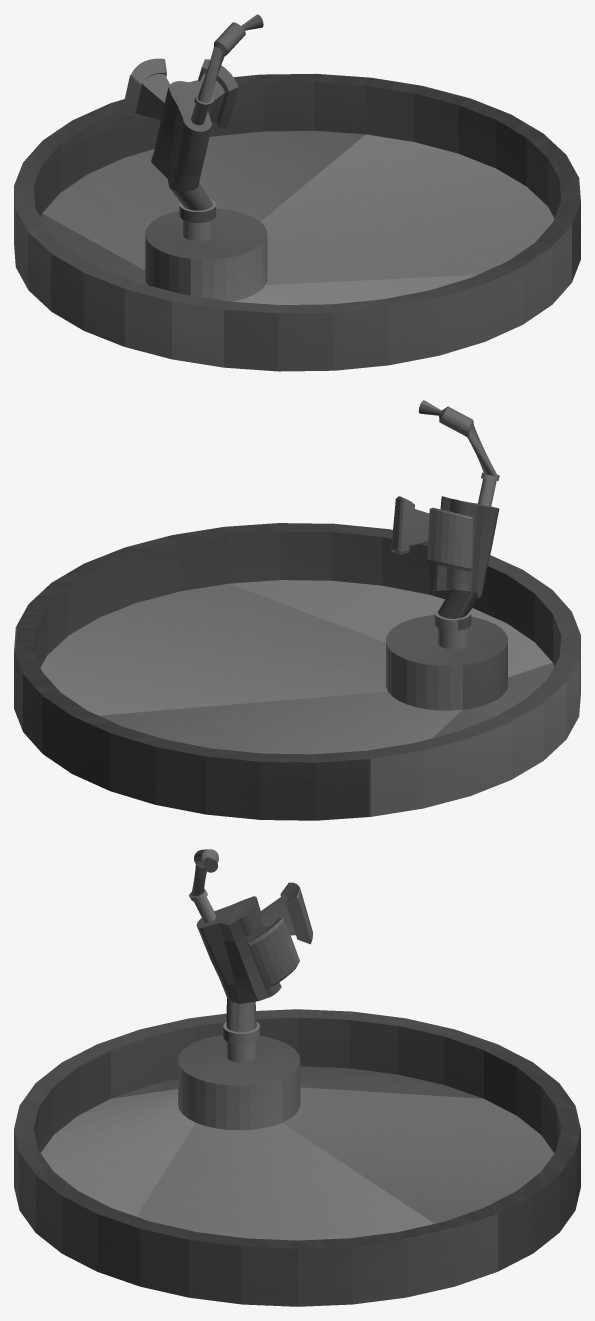
The model's file is OilFountain_COMPLETED.fbx.
3 views of the same model, one above another, from view 1: azimuth 30°, elevation 25°; view 2: azimuth 150°, elevation 25°; view 3: azimuth 270°, elevation 25° (orthographic).
Parts seen in each view (by area): view 1: Oil Fountain; view 2: Oil Fountain; view 3: Oil Fountain.
Boxes of the visible parts, x1,y1,x2,y2 form: Oil Fountain: (14,14,580,371); Oil Fountain: (14,400,580,820); Oil Fountain: (14,849,580,1306).
Bounding box in the file's own units: 648 × 363 × 648.
